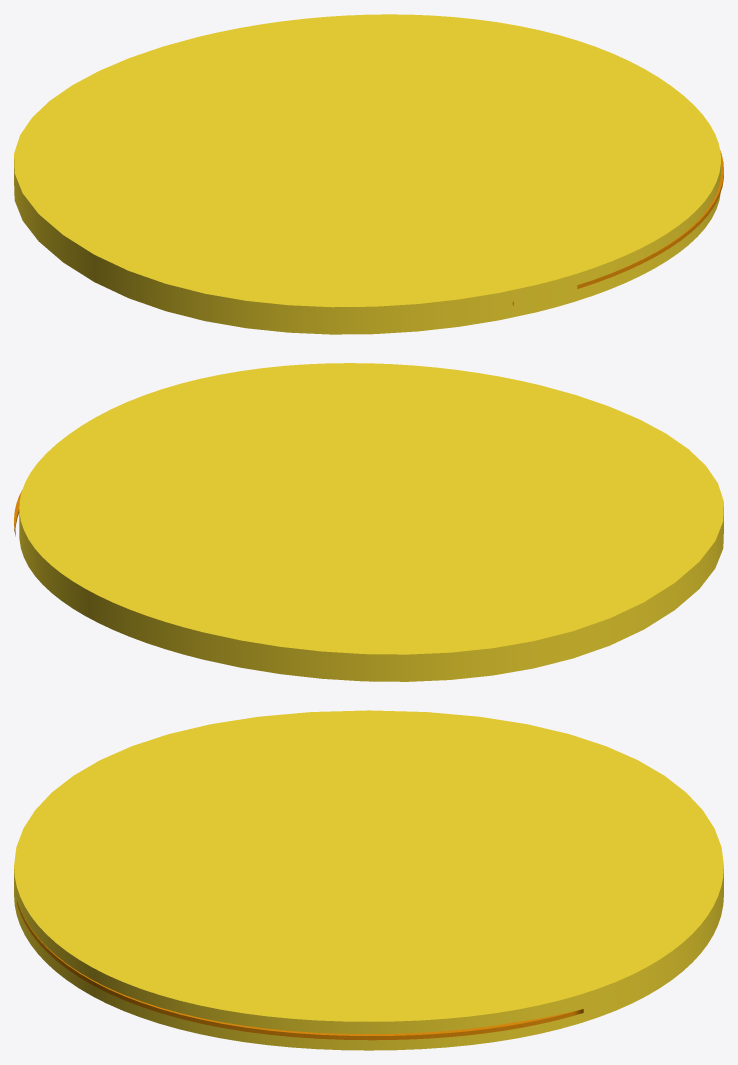
The model's file is emoji_u1f606.glb.
The picture shows the model from 3 angles, top to bottom: view 1: azimuth 30°, elevation 25°; view 2: azimuth 150°, elevation 25°; view 3: azimuth 270°, elevation 25°; orthographic projection. The views are drawn at different scales.
Visible parts, largest first — view 1: emoji_u1f606; view 2: emoji_u1f606; view 3: emoji_u1f606.
Part boxes in pixels (x1,y1,x2,y2): emoji_u1f606: (14, 14, 723, 334); emoji_u1f606: (14, 363, 723, 681); emoji_u1f606: (14, 710, 723, 1050).
Size of the model in its own units: 0.0327 by 0.0014 by 0.0314.
